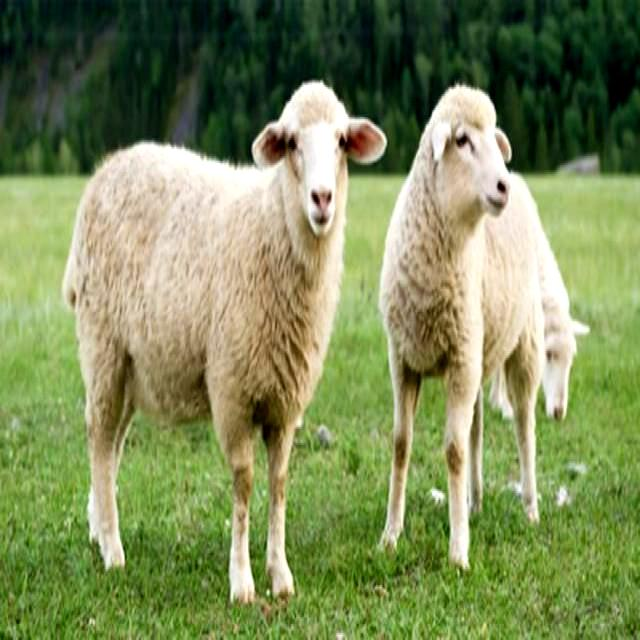sheep: (58, 83, 385, 605), (376, 89, 543, 566)
